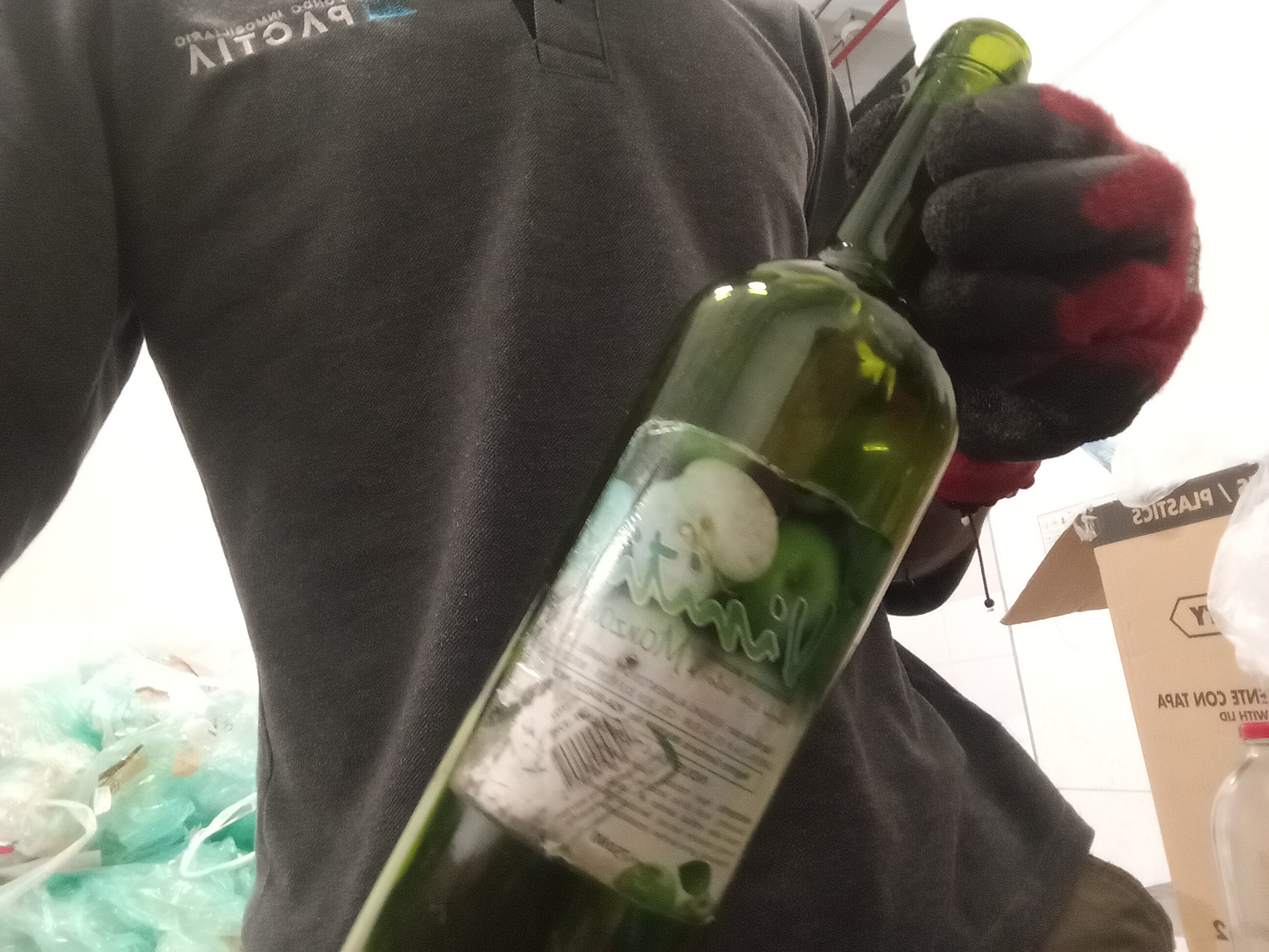Vidrio: (340, 23, 1031, 952)
